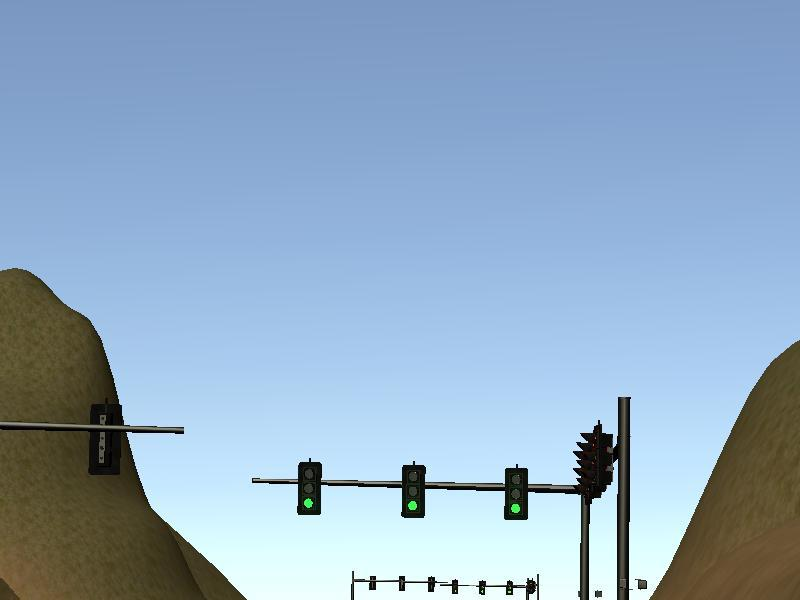Green: (297, 463, 321, 516), (504, 468, 528, 518), (401, 465, 424, 517)
